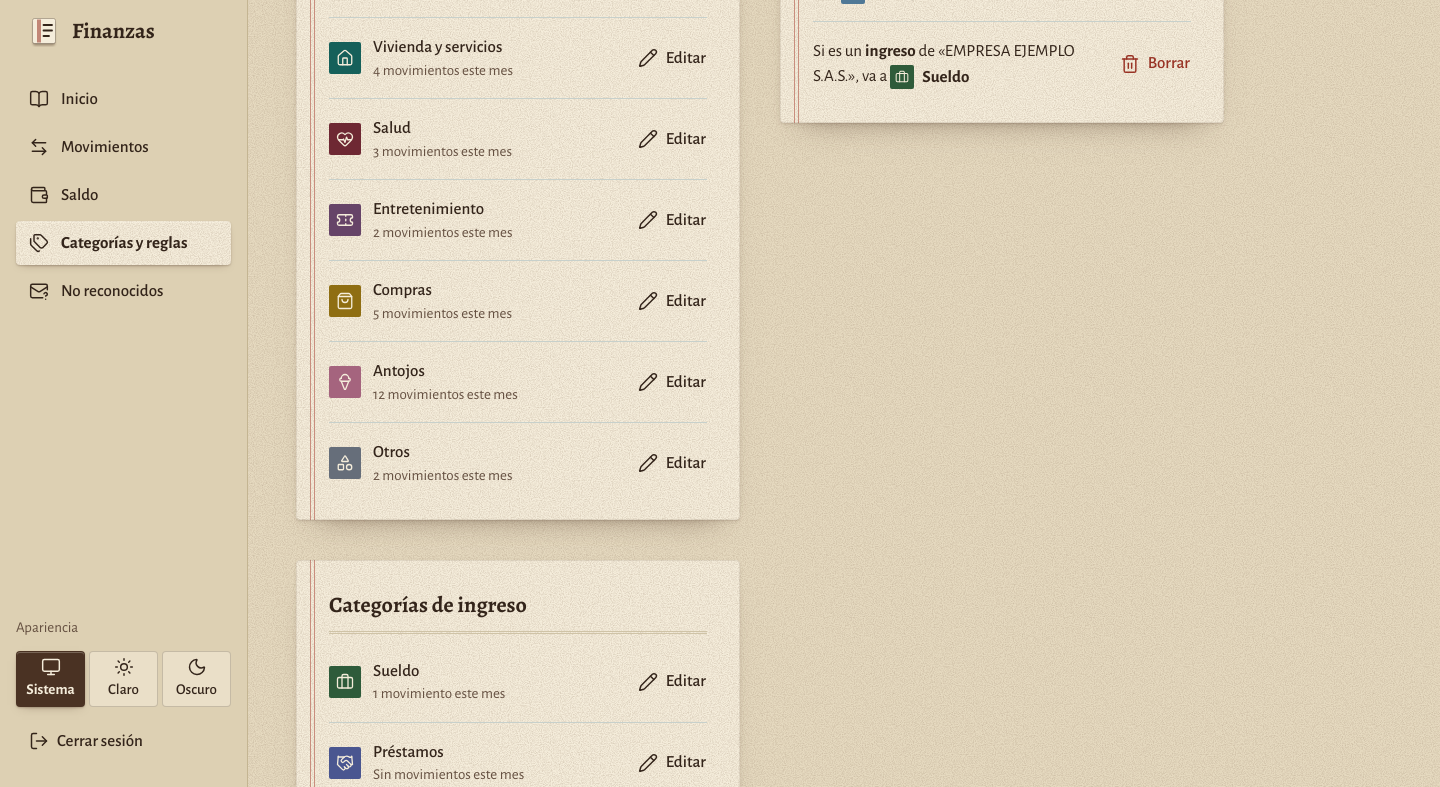
Test: Categorías y reglas › renombra y cambia el ícono: solo envía lo que cambió
(page scrolled)
Click the button named "Editar Antojos" at (672, 382), box 625,360 -> 719,404
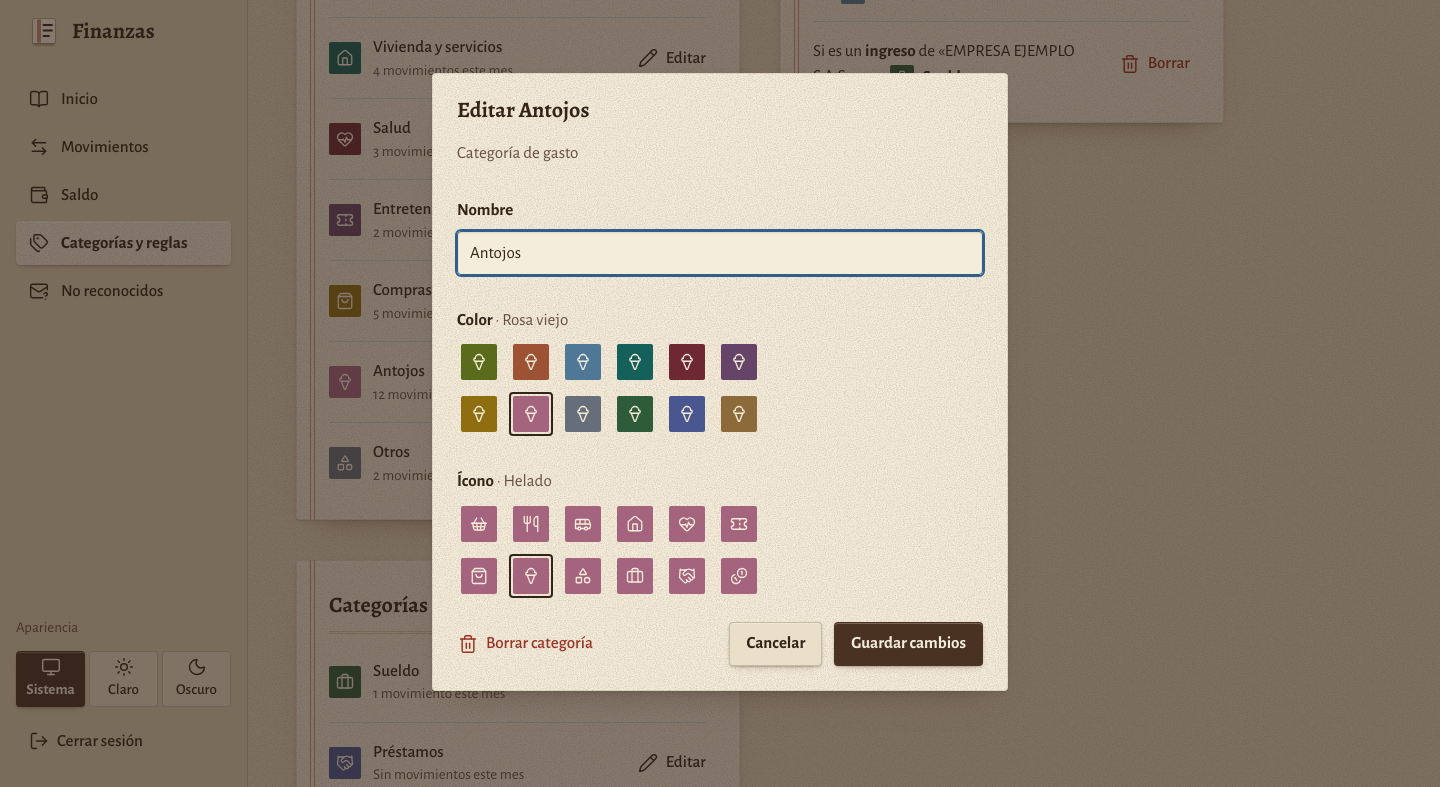
Result: the heading "Editar Antojos" is shown at 457,95 -> 589,125
Result: the text "Categoría de gasto" is shown at 457,144 -> 578,161
Replace the text in the field labelled "Nombre" with "Caprichos" at (720, 253), box 457,231 -> 983,275
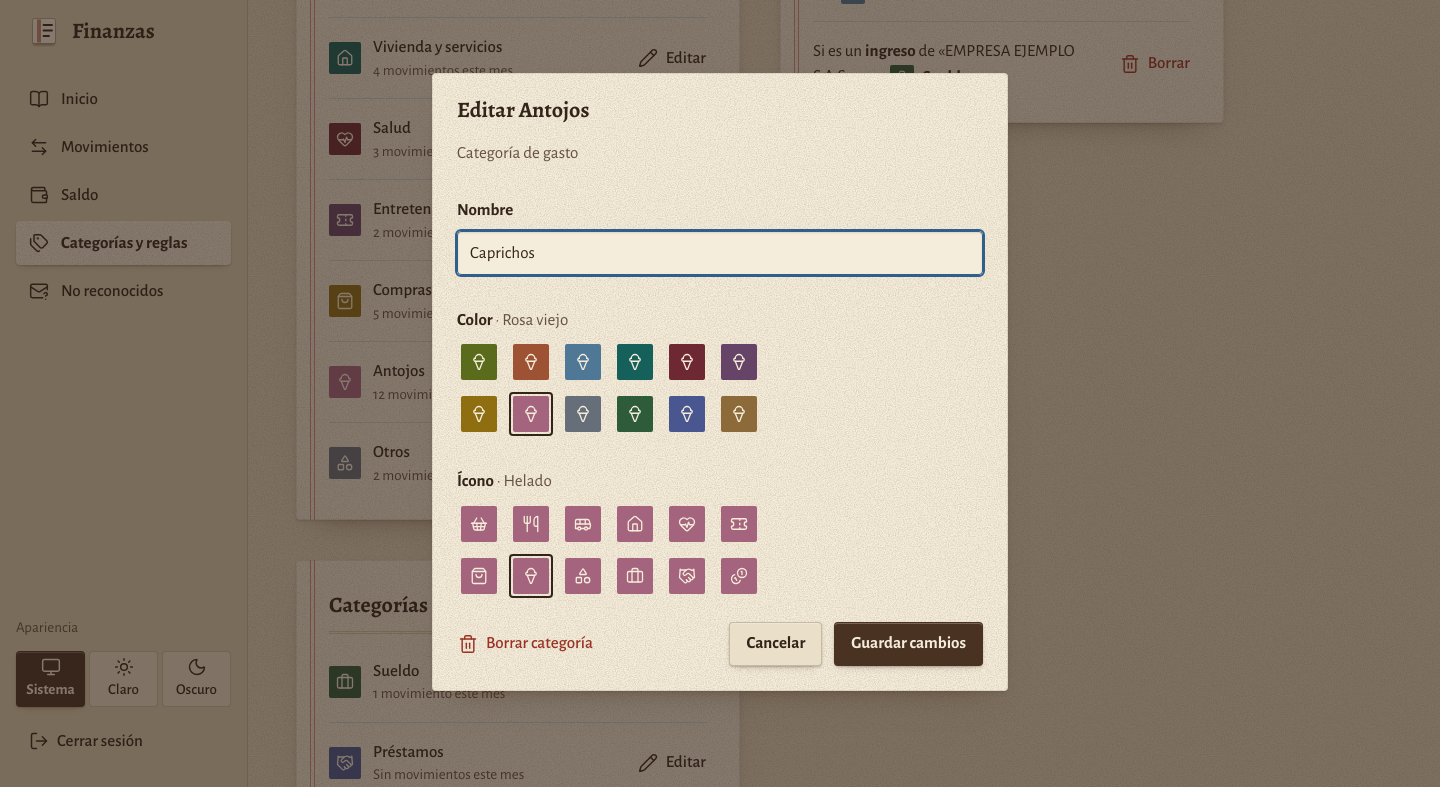
Click the radio button named "Monedas" at (739, 576), box 717,554 -> 761,598
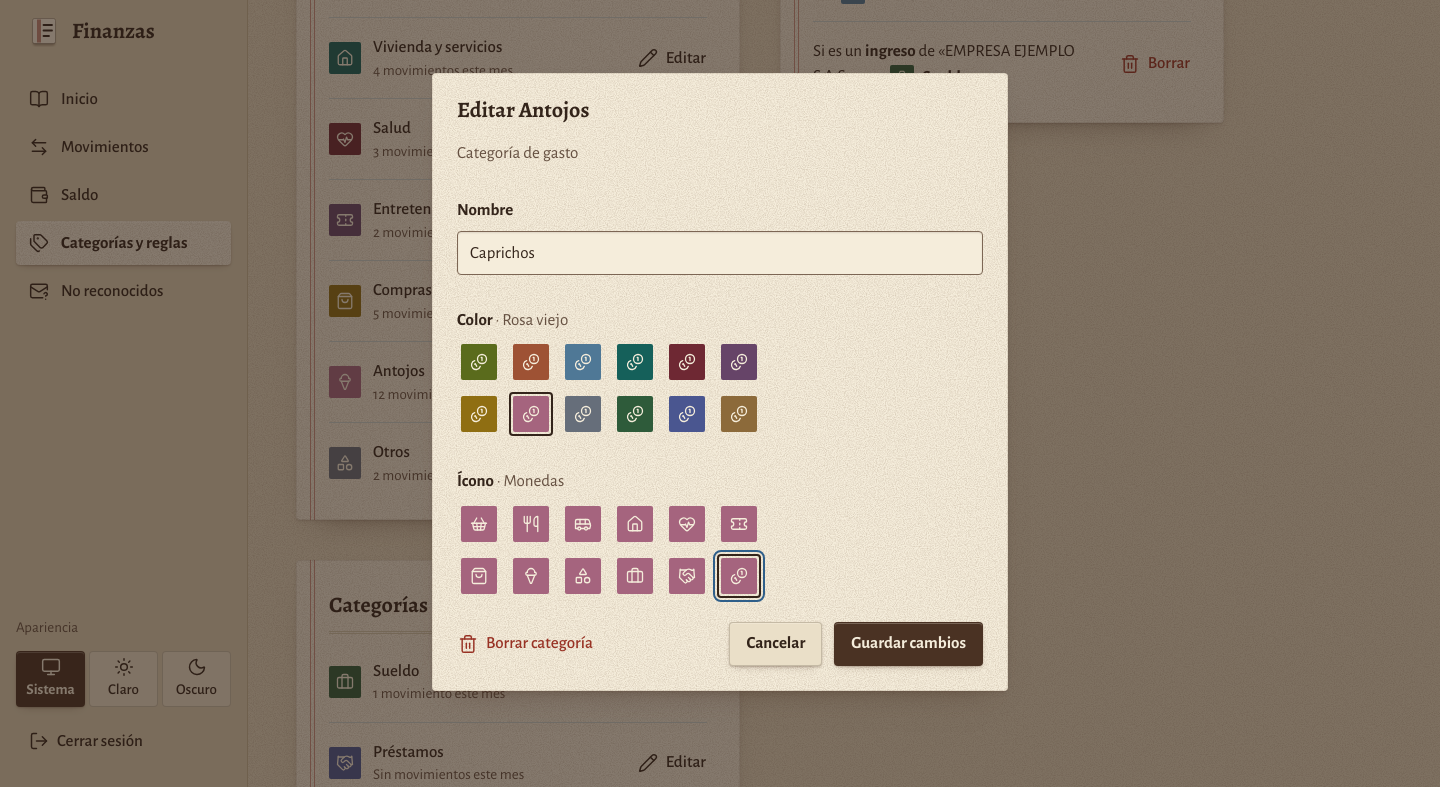
Click the button "Guardar cambios" at (909, 644), box 834,622 -> 983,666
(page scrolled)
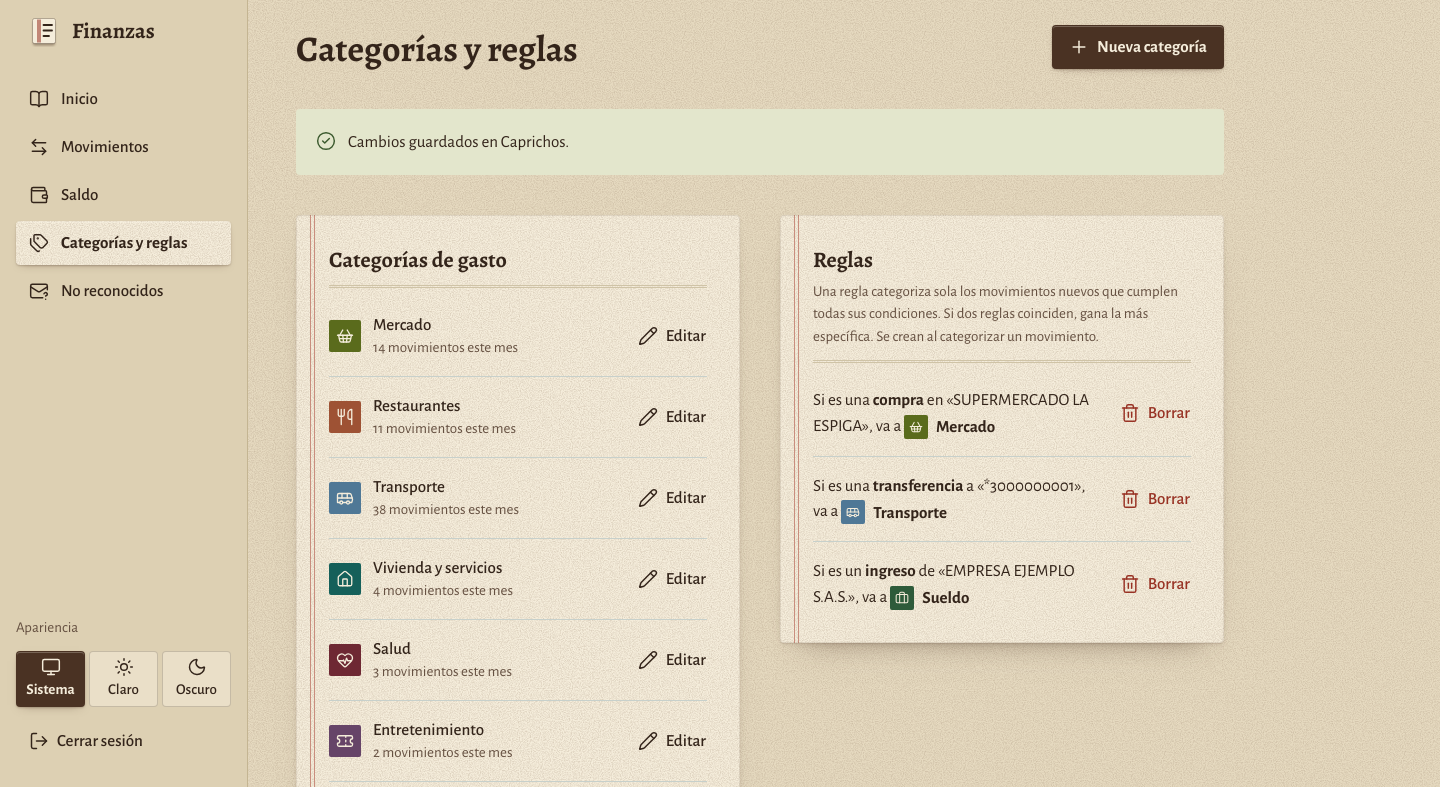
Result: the text "Cambios guardados en Caprichos." is shown at 348,133 -> 569,150
